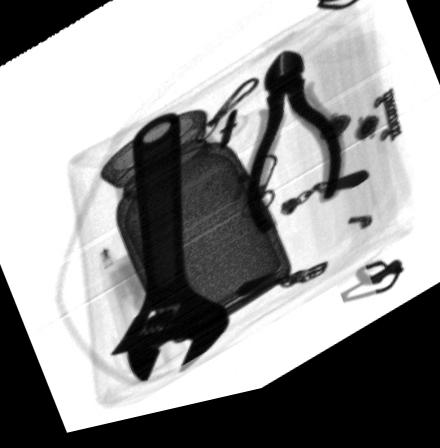Pliers: (245, 63, 343, 248)
Wrench: (108, 121, 230, 389)
